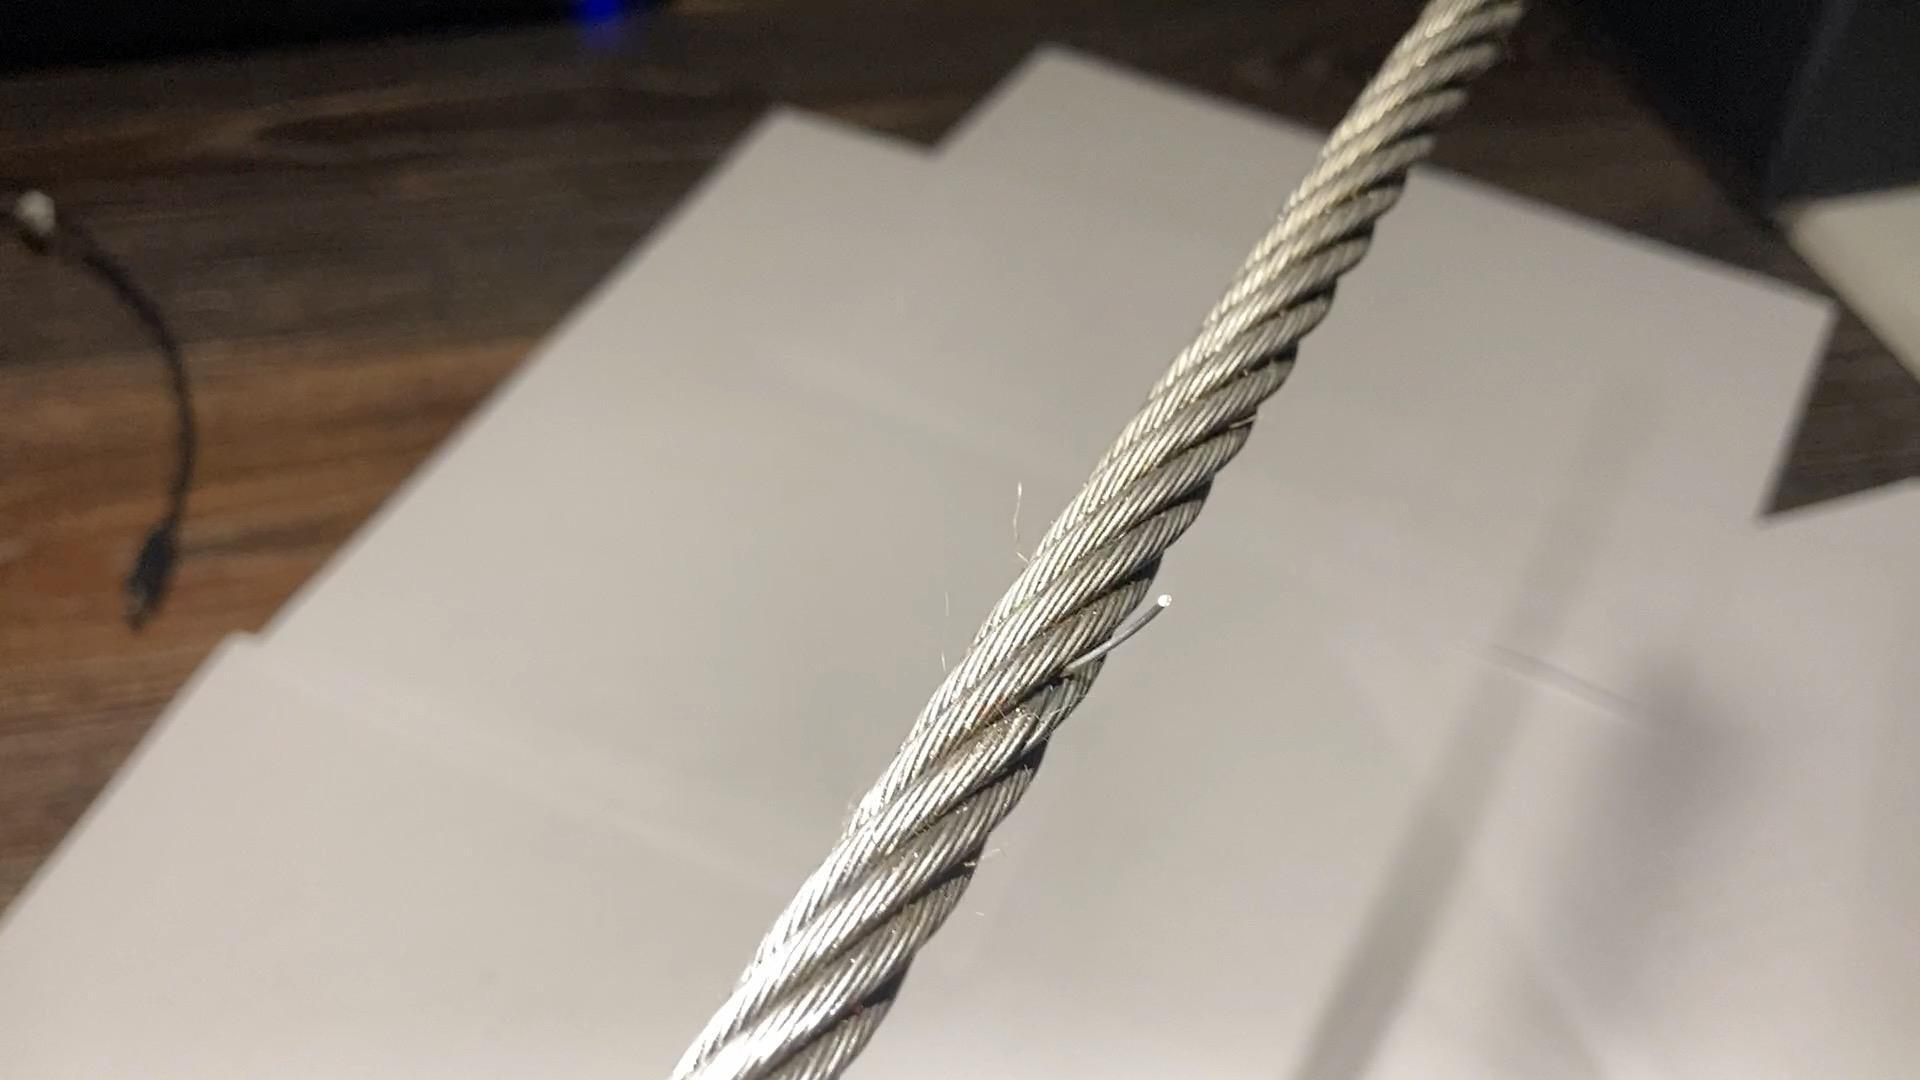break: (1065, 578, 1174, 667)
